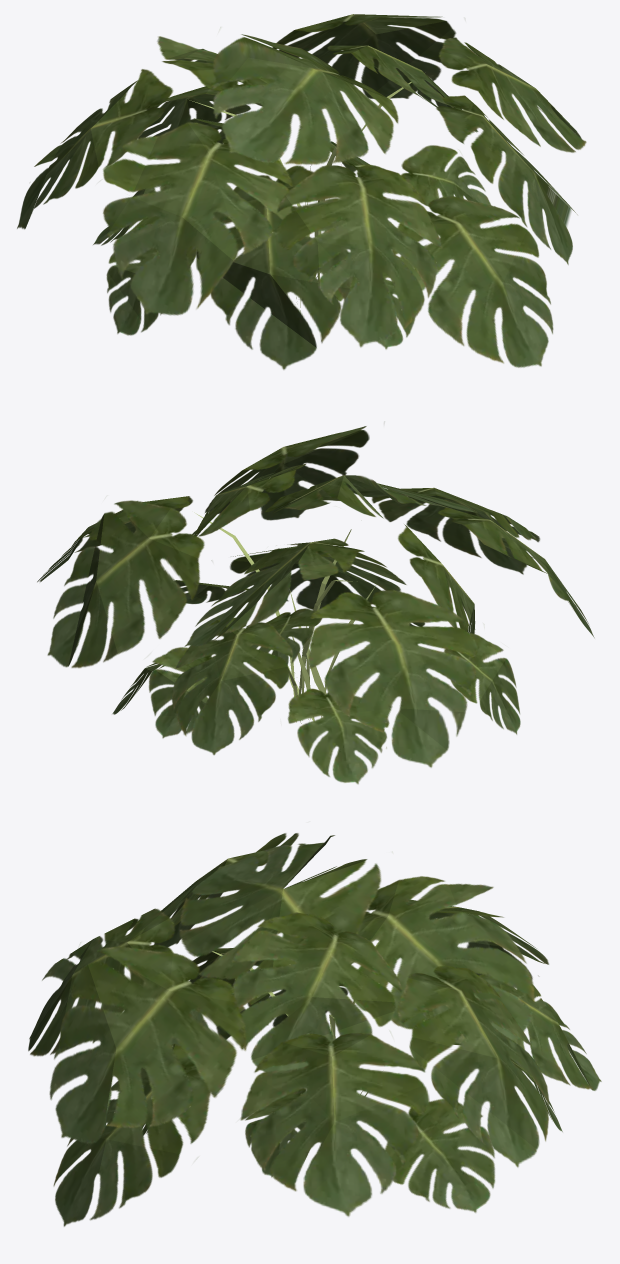
Rendered from planta_tropical.glb.
3 renders of one model, top to bottom at view 1: azimuth 30°, elevation 25°; view 2: azimuth 150°, elevation 25°; view 3: azimuth 270°, elevation 25°, orthographic. The views are drawn at different scales.
Parts seen in each view (by area): view 1: leaves_tropical_plant_0; view 2: leaves_tropical_plant_0, trunk_tropical_plant_0; view 3: leaves_tropical_plant_0.
Boxes of the visible parts, x1,y1,x2,y2 form: leaves_tropical_plant_0: (17, 14, 586, 369); leaves_tropical_plant_0: (37, 426, 594, 784); trunk_tropical_plant_0: (194, 512, 375, 723); leaves_tropical_plant_0: (28, 833, 601, 1226).
Size of the model in its own units: 193 by 97.42 by 170.
1 material, 1 textured.
